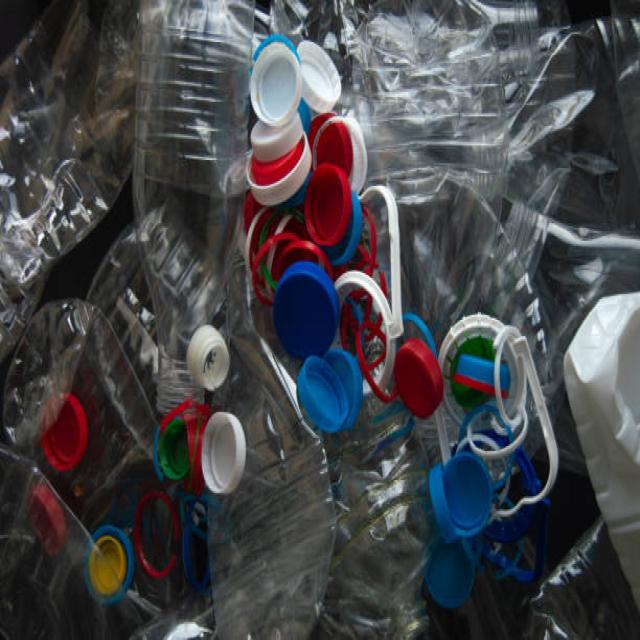plastic: (45, 39, 595, 585)
